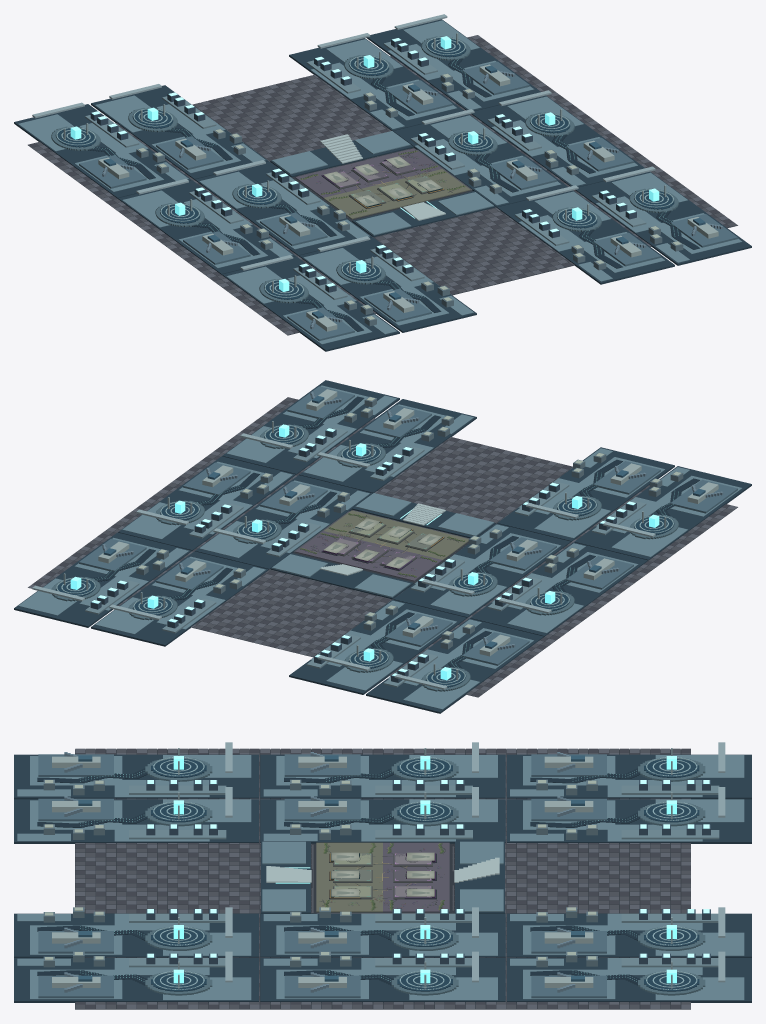
The model's file is nexus.glb.
The picture shows the model from 3 angles, top to bottom: view 1: azimuth 30°, elevation 25°; view 2: azimuth 150°, elevation 25°; view 3: azimuth 270°, elevation 25°; orthographic projection. The views are drawn at different scales.
Visible parts, largest first — view 1: 24_Continuous_Outer_Floor_rock2, 24_Continuous_Outer_Floor_rock, 24_Continuous_Outer_Floor_rock3, 24_Outer_Floor_Mortar, Decorated_Halves_With_Six_Grounded_Stone_Bases, Approach_Flanking_Terraces, Landscape_Terrain_Base__West_1_1, Landscape_Terrain_Base__West_0_1, Landscape_Terrain_Base__East_0_1, Landscape_Terrain_Base__East_1_1, Landscape_Terrain_Fields__West_0_1, Landscape_Terrain_Fields__East_0_-1 (+32 smaller); view 2: 24_Continuous_Outer_Floor_rock, 24_Continuous_Outer_Floor_rock2, 24_Continuous_Outer_Floor_rock3, 24_Outer_Floor_Mortar, Decorated_Halves_With_Six_Grounded_Stone_Bases, Approach_Flanking_Terraces, Landscape_Terrain_Base__West_1_-1, Landscape_Terrain_Base__West_0_-1, Landscape_Terrain_Base__East_0_-1, Landscape_Terrain_Base__East_1_-1, Landscape_Terrain_Base__West_1_1, Landscape_Terrain_Base__West_1_0 (+32 smaller); view 3: 24_Continuous_Outer_Floor_rock2, 24_Continuous_Outer_Floor_rock3, 24_Continuous_Outer_Floor_rock, 24_Outer_Floor_Mortar, Decorated_Halves_With_Six_Grounded_Stone_Bases, Approach_Flanking_Terraces, Landscape_Terrain_Base__East_1_1, Landscape_Terrain_Base__East_1_-1, Landscape_Terrain_Base__East_1_0, Landscape_Terrain_Base__West_1_-1, Landscape_Terrain_Base__West_1_0, Landscape_Terrain_Base__West_1_1 (+92 smaller).
Part boxes in pixels (x1,y1,x2,y2): 24_Continuous_Outer_Floor_rock2: (32,36,737,331); 24_Continuous_Outer_Floor_rock: (28,38,732,332); 24_Continuous_Outer_Floor_rock3: (36,35,728,334); 24_Outer_Floor_Mortar: (28,37,737,335); Decorated_Halves_With_Six_Grounded_Stone_Bases: (295,148,470,219); Approach_Flanking_Terraces: (272,131,493,235); Landscape_Terrain_Base__West_1_1: (222,256,399,351); Landscape_Terrain_Base__West_0_1: (299,237,476,332); Landscape_Terrain_Base__East_0_1: (497,190,674,284); Landscape_Terrain_Base__East_1_1: (575,171,751,265); Landscape_Terrain_Fields__West_0_1: (303,248,473,325); Landscape_Terrain_Fields__East_0_-1: (310,39,456,128); 24_Continuous_Outer_Floor_rock: (32,399,730,696); 24_Continuous_Outer_Floor_rock2: (37,397,733,695); 24_Continuous_Outer_Floor_rock3: (28,402,737,691); 24_Outer_Floor_Mortar: (28,399,737,697); Decorated_Halves_With_Six_Grounded_Stone_Bases: (295,510,468,581); Approach_Flanking_Terraces: (272,493,493,597); Landscape_Terrain_Base__West_1_-1: (366,618,543,713); Landscape_Terrain_Base__West_0_-1: (289,599,466,694); Landscape_Terrain_Base__East_0_-1: (91,551,268,646); Landscape_Terrain_Base__East_1_-1: (14,532,191,627); Landscape_Terrain_Base__West_1_1: (574,466,751,560); Landscape_Terrain_Base__West_1_0: (470,542,647,636); 24_Continuous_Outer_Floor_rock2: (75,748,690,1008); 24_Continuous_Outer_Floor_rock3: (75,748,690,1008); 24_Continuous_Outer_Floor_rock: (75,748,690,1008); 24_Outer_Floor_Mortar: (75,749,690,1009); Decorated_Halves_With_Six_Grounded_Stone_Bases: (316,842,449,912); Approach_Flanking_Terraces: (262,841,503,911); Landscape_Terrain_Base__East_1_1: (14,958,258,1002); Landscape_Terrain_Base__East_1_-1: (507,958,751,1002); Landscape_Terrain_Base__East_1_0: (260,958,505,1002); Landscape_Terrain_Base__West_1_-1: (507,754,751,799); Landscape_Terrain_Base__West_1_0: (260,754,505,798); Landscape_Terrain_Base__West_1_1: (14,754,258,799).
Size of the model in its own units: 48 by 1.86 by 57.5.
35 materials, 1 textured.
